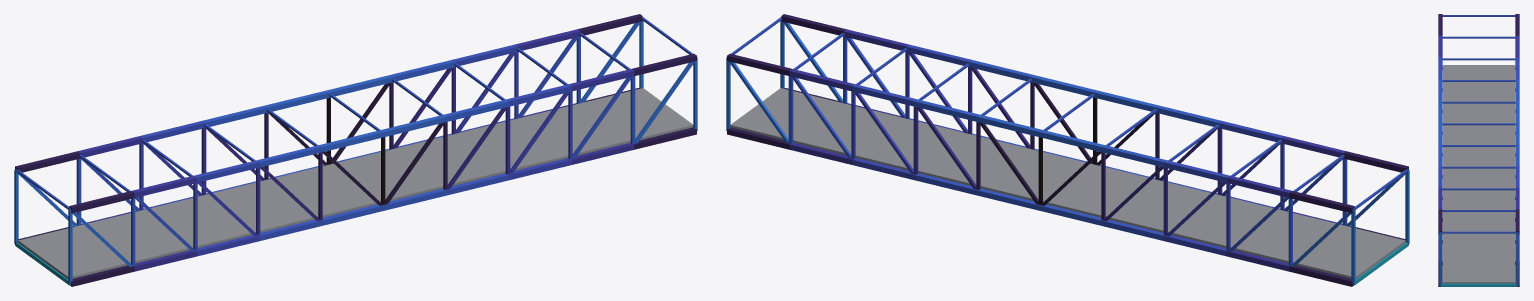
Rendered from 20_2.25_10_HEA240.glb.
3 renders of one model, left to right at view 1: azimuth 30°, elevation 25°; view 2: azimuth 150°, elevation 25°; view 3: azimuth 270°, elevation 25°, orthographic. The views are drawn at different scales.
Bounding box in the file's own units: 20.09 × 2.41 × 3.16.
